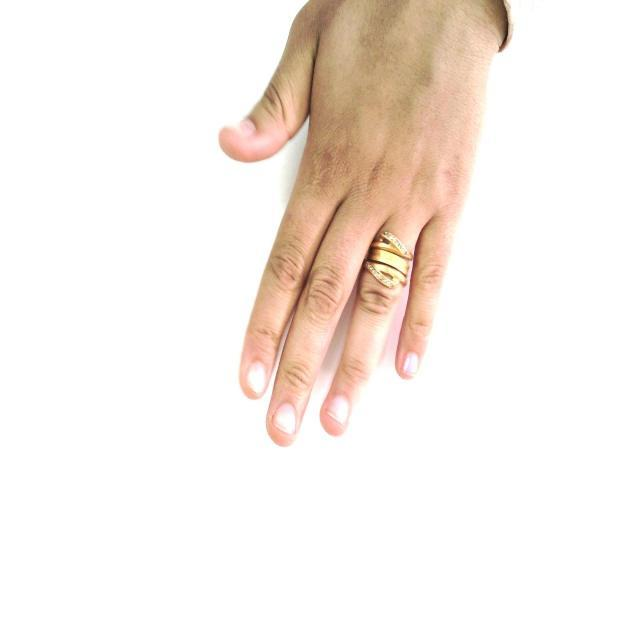Fingernail: (246, 362, 266, 394), (274, 404, 295, 434), (326, 396, 348, 422), (236, 119, 255, 136), (403, 354, 418, 375)
